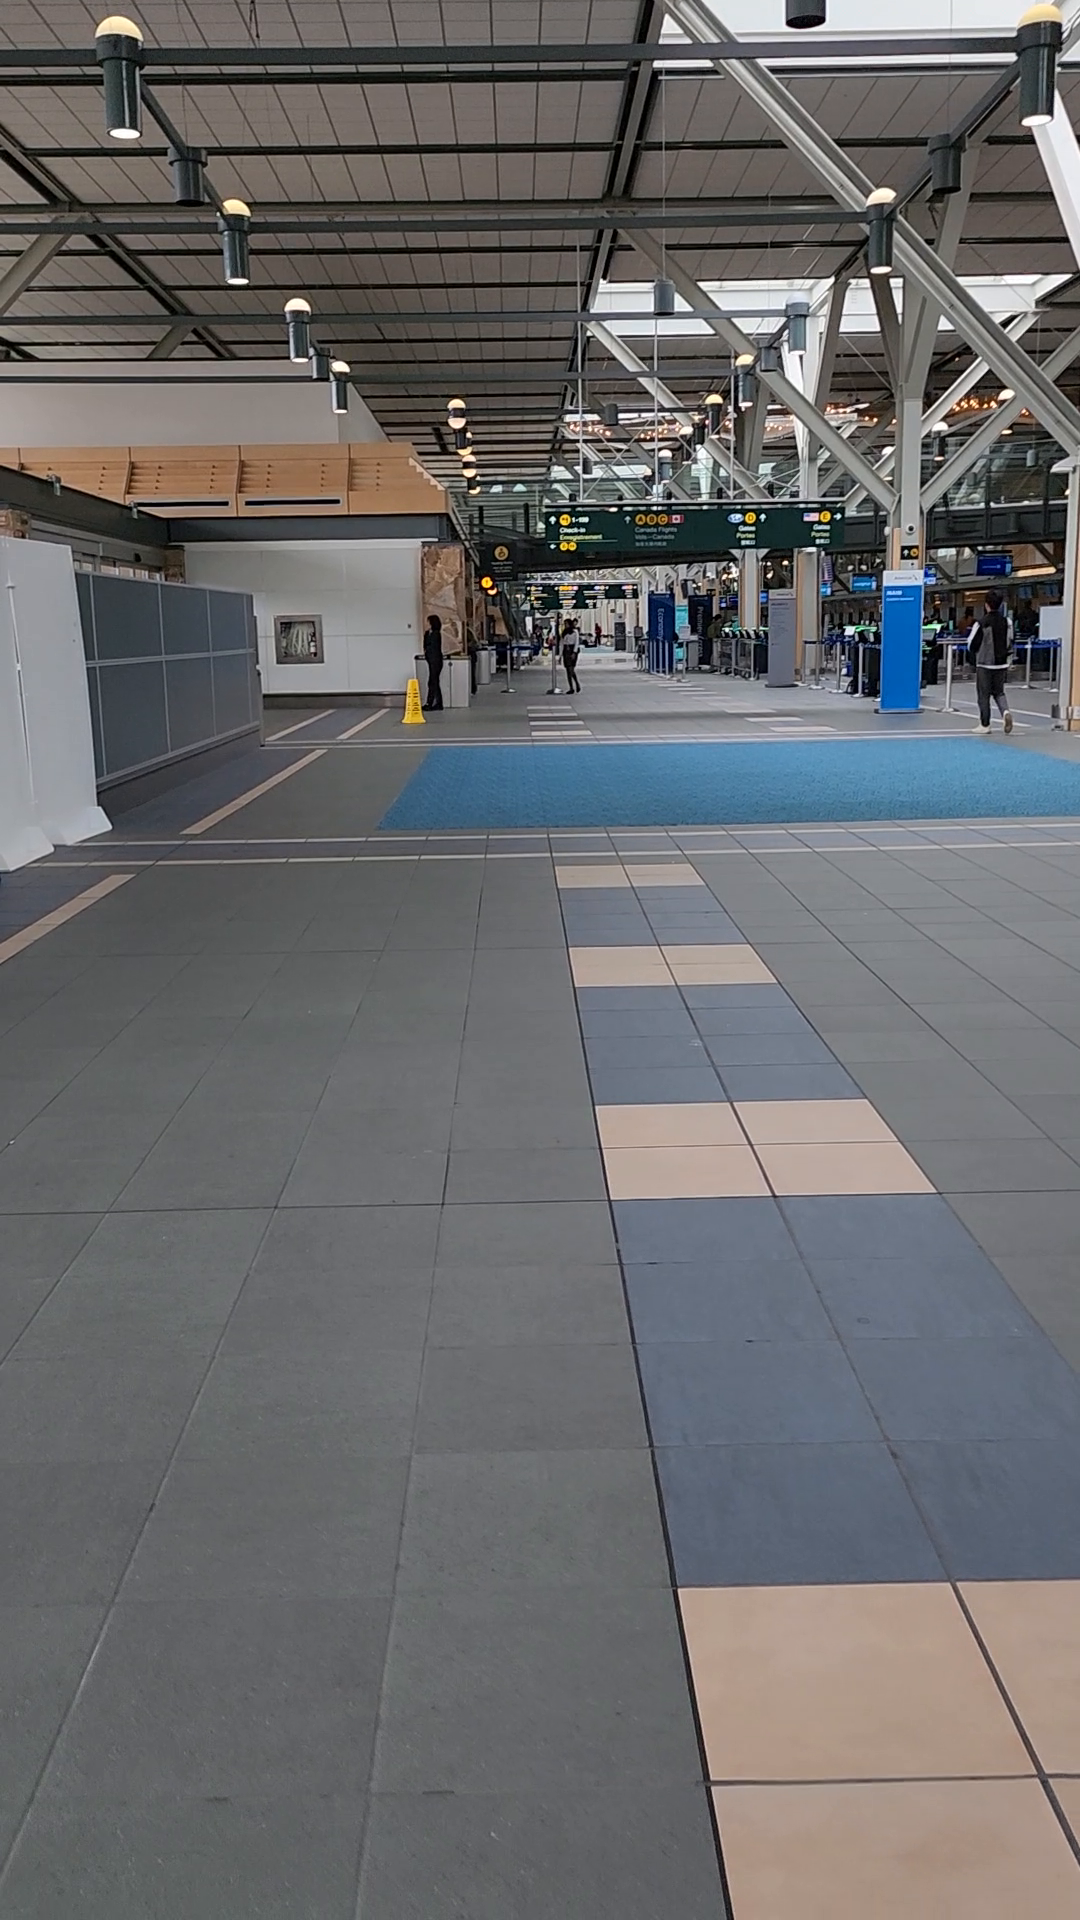Defect: (596, 1250, 699, 1278), (632, 505, 696, 529)
Stain: (841, 1298, 889, 1336)
